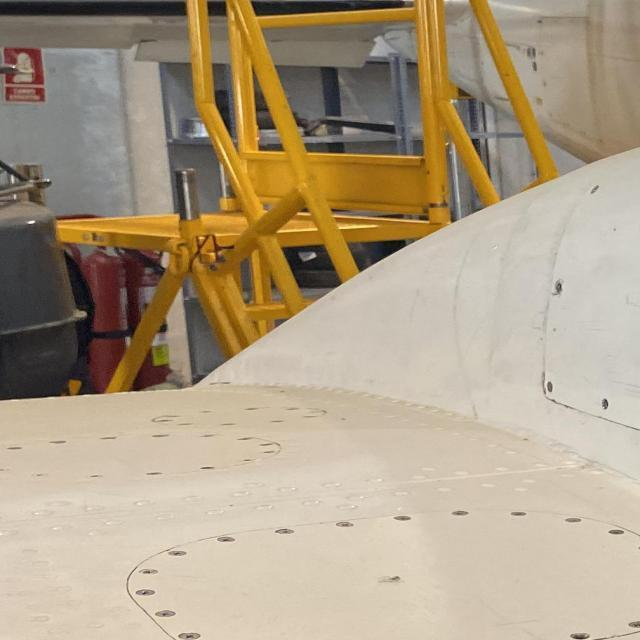Missing-head: (564, 629, 600, 640), (552, 279, 566, 295), (600, 399, 608, 409)
